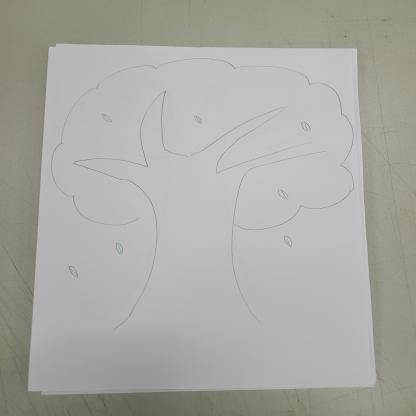branch_sharp: (64, 88, 330, 193)
crown_cloud: (51, 57, 359, 233)
trunk_straight: (136, 231, 249, 304)
